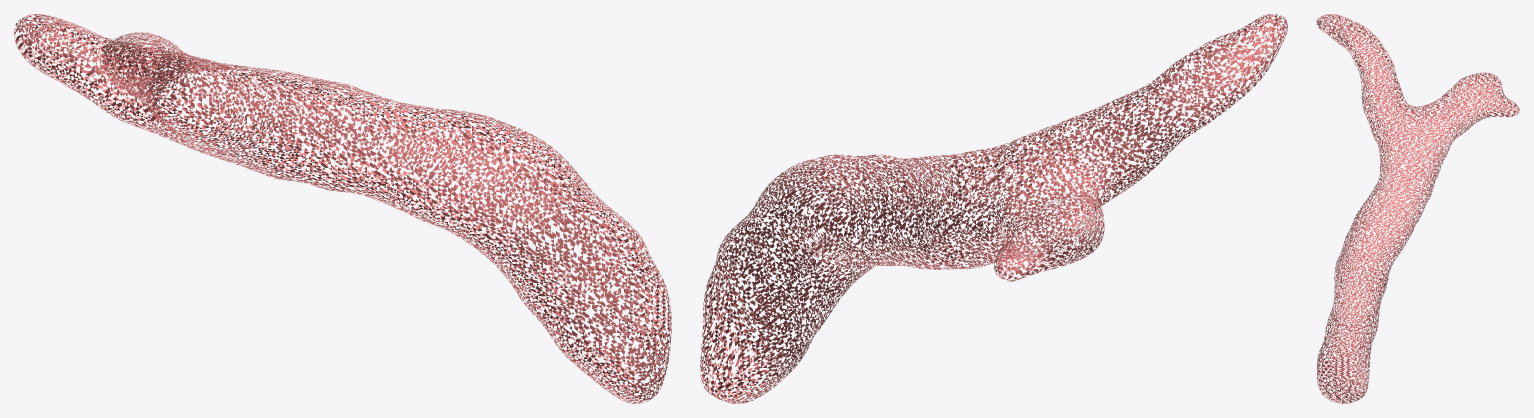
The model's file is morph_000.glb.
The picture shows the model from 3 angles, left to right: view 1: azimuth 30°, elevation 25°; view 2: azimuth 150°, elevation 25°; view 3: azimuth 270°, elevation 25°; orthographic projection. The views are drawn at different scales.
Size of the model in its own units: 111 by 94.94 by 67.65.
